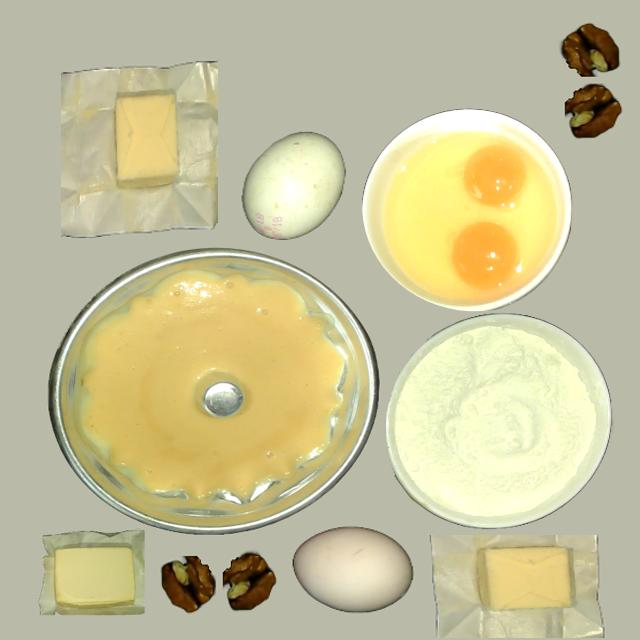Egg: (452, 222, 519, 288), (463, 145, 527, 207)
Flour: (375, 307, 604, 525)
